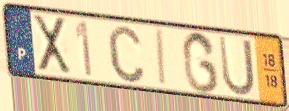1: (74, 19, 94, 79)
C: (106, 22, 147, 85)
G: (180, 29, 221, 96)
I: (155, 28, 169, 89)
U: (217, 34, 257, 99)
X: (31, 13, 73, 76)
